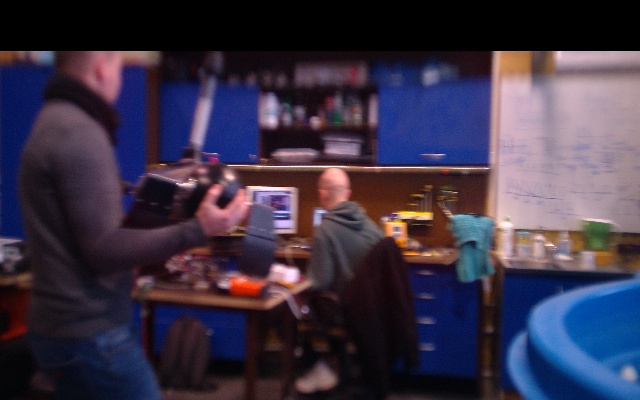black: (187, 93, 217, 154)
